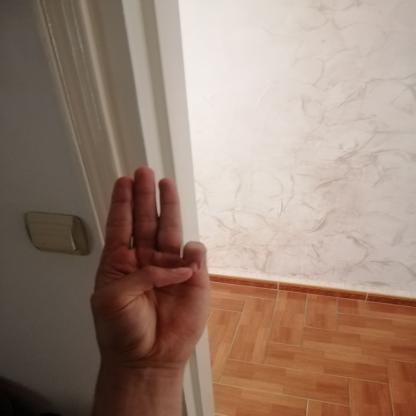THA: (70, 159, 234, 384)
